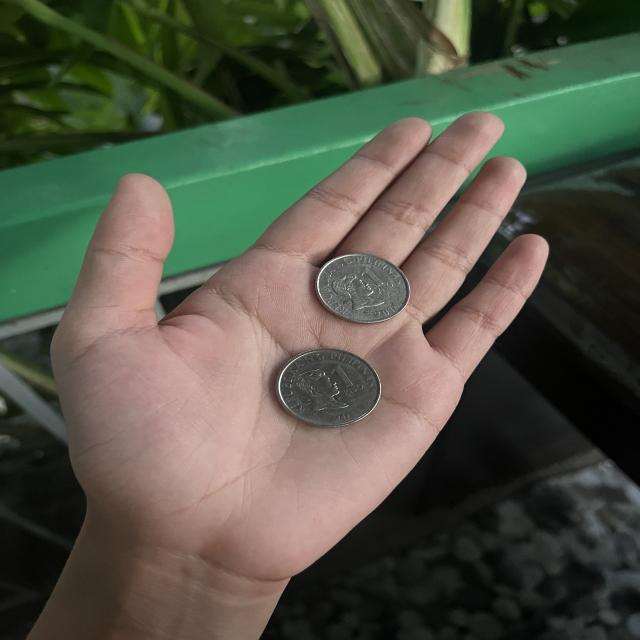1_Old_Front: (288, 355, 367, 420), (324, 260, 405, 316)
